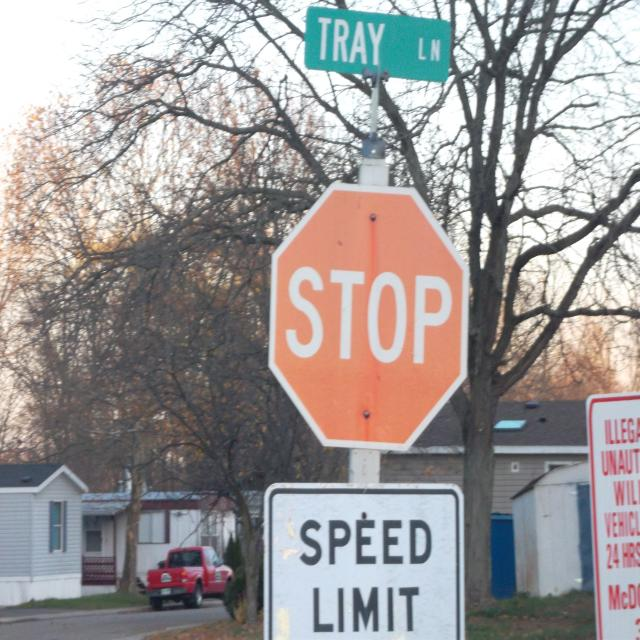regulatory: (258, 482, 476, 640)
stop: (264, 171, 472, 465)
